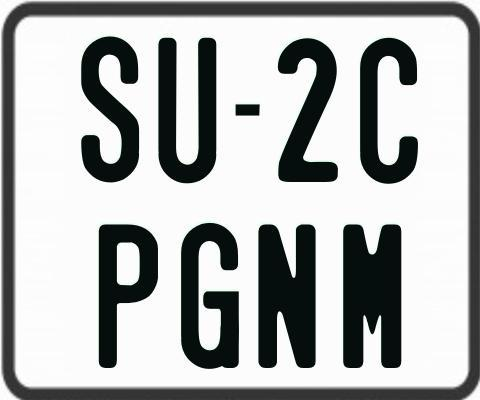2: (275, 35, 338, 181)
C: (358, 35, 419, 186)
G: (181, 221, 244, 371)
M: (341, 221, 399, 368)
N: (257, 223, 315, 372)
P: (99, 221, 158, 370)
S: (79, 36, 142, 185)
U: (158, 38, 221, 189)
